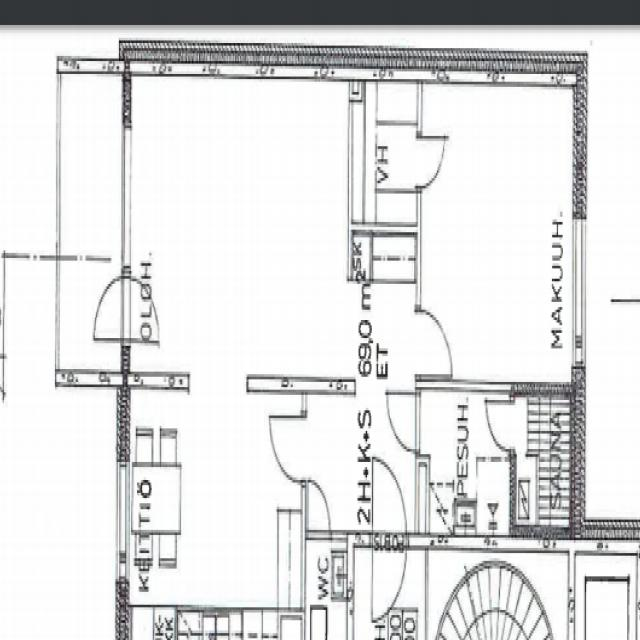door: (373, 533, 407, 621), (373, 459, 407, 546), (271, 416, 307, 482), (416, 306, 452, 372), (122, 276, 159, 339), (93, 276, 129, 339), (390, 393, 421, 448), (416, 136, 444, 185), (488, 402, 516, 449), (309, 485, 331, 543)
